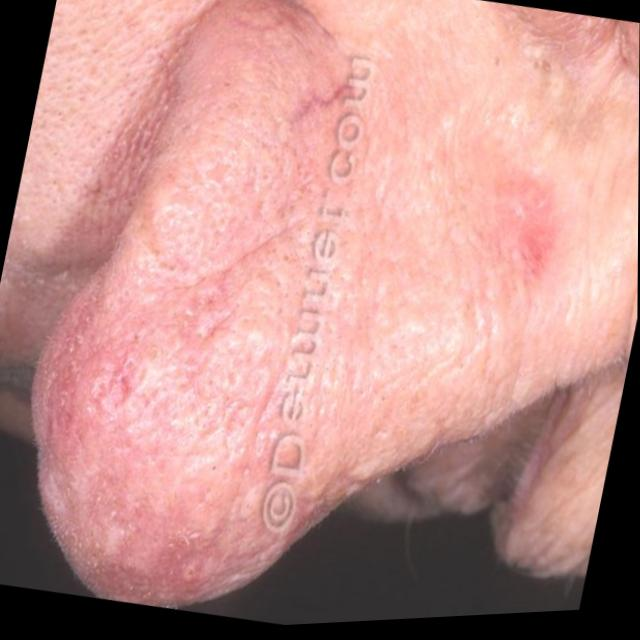Rosacea: (15, 107, 566, 639)
